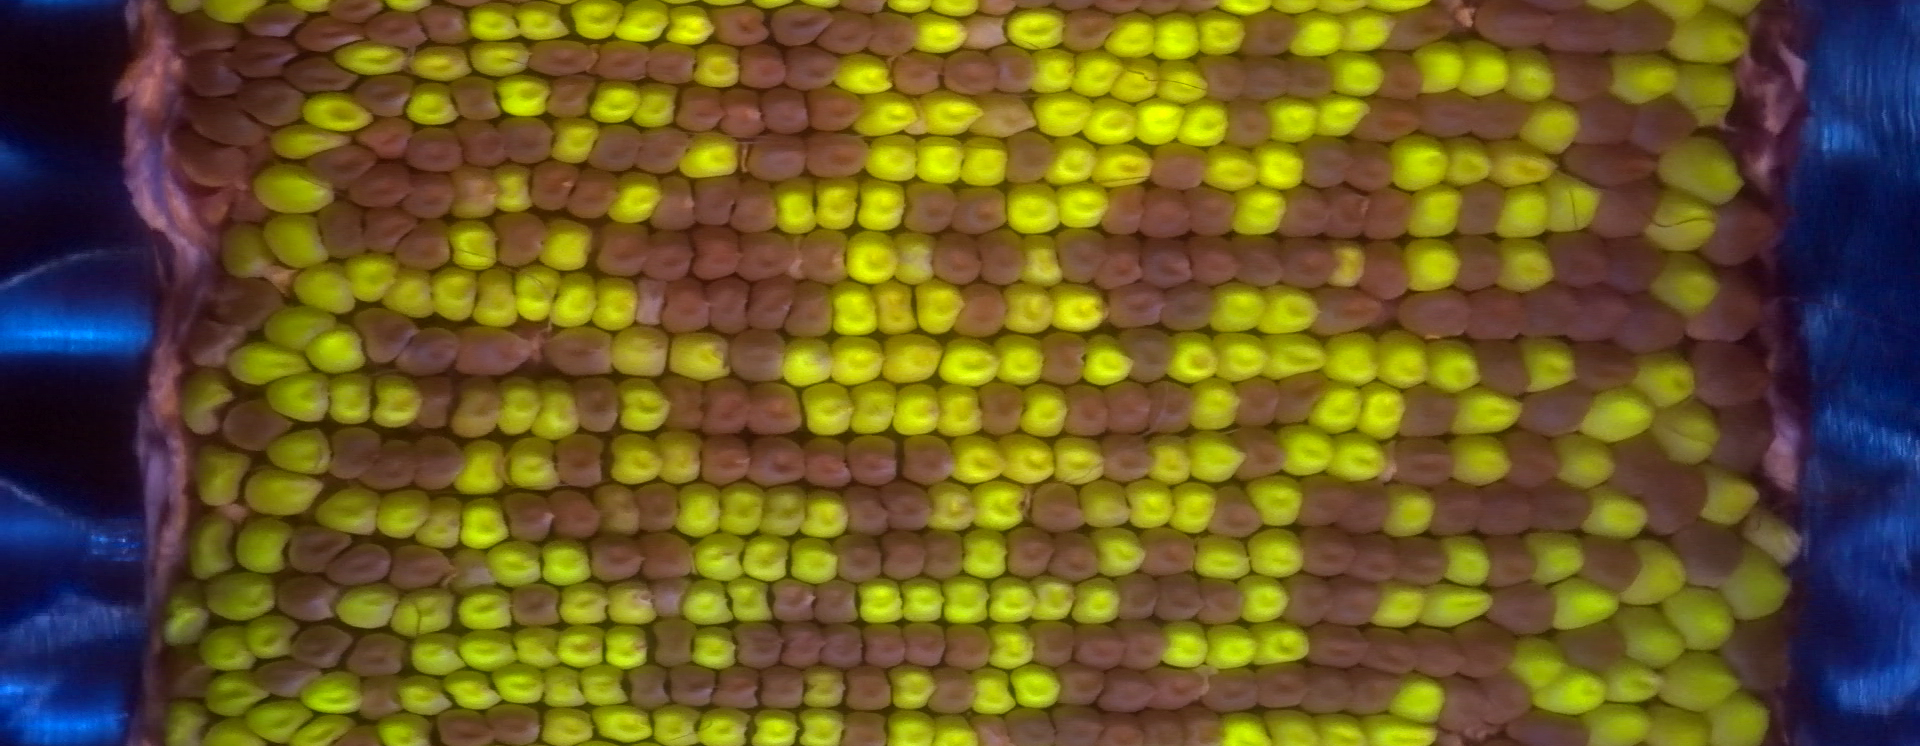fluorescent: (1653, 131, 1753, 217), (1716, 537, 1801, 628), (1654, 646, 1749, 719), (1658, 581, 1745, 657), (1616, 530, 1693, 612), (1642, 186, 1727, 260), (1667, 1, 1757, 69), (245, 160, 348, 219), (1624, 343, 1706, 416), (1573, 383, 1664, 450), (1644, 246, 1724, 321), (1611, 603, 1692, 675), (238, 463, 331, 526), (1653, 393, 1727, 472), (1547, 428, 1625, 499), (223, 337, 320, 393), (176, 365, 242, 447), (1575, 481, 1657, 548), (1603, 47, 1686, 111), (1669, 58, 1745, 129), (1382, 127, 1460, 197), (284, 256, 364, 323), (1480, 132, 1566, 195), (1537, 165, 1611, 236), (261, 367, 343, 430), (189, 440, 257, 514), (148, 576, 216, 652), (1517, 526, 1596, 590), (180, 508, 244, 588), (1318, 323, 1389, 394), (1445, 383, 1531, 442), (256, 209, 338, 271), (1413, 578, 1504, 633), (1512, 328, 1582, 399), (228, 512, 300, 581), (309, 483, 389, 544), (1418, 333, 1491, 401), (200, 567, 285, 625), (524, 372, 589, 448), (1442, 429, 1521, 491), (1545, 572, 1624, 635), (1739, 501, 1810, 570), (1513, 93, 1586, 160), (1180, 424, 1254, 490), (1502, 628, 1576, 695), (991, 428, 1067, 491), (1042, 279, 1120, 341), (1531, 660, 1609, 722), (1368, 326, 1436, 396), (1695, 461, 1764, 529), (872, 330, 953, 388), (1396, 233, 1472, 295), (1250, 281, 1329, 341), (257, 425, 340, 481), (1381, 668, 1453, 733), (1269, 416, 1342, 480), (1205, 327, 1280, 390), (602, 321, 678, 382), (195, 668, 277, 724), (1703, 690, 1785, 746), (1449, 36, 1517, 103), (1374, 477, 1442, 544), (822, 274, 888, 344), (609, 374, 680, 439), (500, 434, 571, 499), (463, 262, 528, 333), (999, 178, 1071, 241), (932, 333, 1011, 391), (1239, 522, 1314, 583), (386, 583, 462, 643), (446, 435, 514, 501), (213, 220, 283, 285), (1400, 179, 1469, 244), (673, 122, 744, 186), (1489, 183, 1560, 246), (329, 578, 408, 636), (911, 85, 989, 142), (1255, 328, 1335, 385), (377, 262, 444, 328), (1240, 468, 1308, 534), (295, 87, 380, 140), (840, 225, 910, 289), (191, 622, 268, 680), (256, 304, 347, 353), (1404, 36, 1476, 98), (666, 478, 731, 545), (1435, 529, 1500, 597), (1198, 141, 1273, 198), (1223, 183, 1299, 240), (489, 372, 551, 442), (996, 278, 1065, 341), (1491, 233, 1562, 294), (662, 330, 740, 386), (337, 247, 409, 307), (1365, 576, 1438, 636), (302, 321, 376, 380), (942, 431, 1015, 490), (479, 535, 553, 593), (710, 478, 775, 544), (1011, 379, 1076, 445), (928, 379, 994, 443), (1076, 330, 1145, 392), (767, 170, 828, 240), (328, 36, 418, 83), (453, 624, 531, 677), (605, 429, 670, 494), (454, 492, 518, 559), (507, 260, 571, 326), (841, 375, 907, 439), (1158, 477, 1224, 540), (1243, 619, 1322, 671), (866, 274, 926, 344), (528, 216, 598, 276), (948, 131, 1018, 191), (1085, 138, 1161, 194), (1596, 655, 1673, 709), (751, 480, 816, 544), (1435, 129, 1500, 192), (422, 261, 485, 327), (1160, 327, 1226, 390), (998, 2, 1076, 55), (1118, 474, 1185, 535), (1281, 9, 1356, 64), (984, 330, 1053, 390), (1079, 89, 1147, 149), (1351, 379, 1411, 447), (1324, 428, 1392, 488), (264, 120, 358, 164), (239, 695, 318, 746), (1082, 522, 1153, 579), (852, 85, 924, 141), (372, 483, 436, 546), (320, 369, 383, 432), (851, 173, 913, 238), (932, 570, 997, 632), (1184, 372, 1247, 437), (365, 371, 431, 432), (966, 475, 1032, 537), (1249, 136, 1315, 197), (673, 575, 741, 635), (546, 266, 605, 334), (1000, 659, 1069, 718), (1205, 277, 1273, 336), (400, 625, 475, 679), (1187, 532, 1261, 586), (451, 581, 520, 638), (462, 32, 541, 82), (793, 483, 857, 545), (909, 277, 972, 339), (647, 426, 711, 488), (687, 529, 752, 590), (798, 379, 860, 443), (1498, 45, 1562, 107), (1014, 229, 1075, 294), (782, 530, 849, 590), (918, 477, 984, 537), (1231, 571, 1297, 631), (825, 332, 894, 390), (1044, 434, 1113, 491), (1051, 178, 1119, 235), (293, 668, 371, 718), (883, 227, 944, 290), (1303, 379, 1367, 440), (1128, 91, 1193, 151), (774, 333, 840, 392), (860, 129, 926, 187), (1580, 701, 1665, 746), (1071, 477, 1139, 534), (1637, 702, 1724, 746), (1029, 88, 1100, 142), (584, 274, 647, 336), (443, 160, 506, 222), (535, 534, 600, 593), (686, 37, 751, 96), (542, 113, 609, 170), (1200, 620, 1266, 677), (600, 576, 667, 632), (583, 73, 650, 130), (1260, 93, 1327, 149), (1138, 431, 1199, 492), (605, 168, 669, 227), (396, 77, 467, 130), (828, 48, 899, 100), (882, 659, 947, 717), (1153, 617, 1218, 675), (1098, 7, 1164, 64), (1173, 96, 1239, 152), (909, 132, 975, 189), (550, 577, 617, 632), (1322, 47, 1390, 102), (400, 40, 480, 87), (1335, 4, 1403, 58), (885, 380, 947, 440), (487, 658, 552, 714), (1022, 572, 1087, 628), (1063, 572, 1128, 628), (1150, 56, 1218, 109), (956, 526, 1016, 586), (964, 663, 1025, 722), (904, 7, 973, 59), (850, 573, 913, 630), (981, 572, 1044, 628), (735, 530, 800, 586), (415, 489, 469, 555), (624, 77, 686, 135), (551, 619, 613, 675), (492, 69, 557, 122), (1065, 48, 1130, 102), (436, 666, 507, 715), (585, 699, 660, 746), (444, 216, 504, 273), (1320, 234, 1378, 294), (1109, 48, 1166, 109), (682, 622, 744, 677), (1147, 9, 1210, 64), (1189, 6, 1251, 61), (795, 660, 858, 714), (981, 619, 1044, 673), (811, 171, 863, 236), (1040, 134, 1104, 186), (573, 659, 639, 710), (240, 610, 306, 661), (485, 160, 544, 217), (722, 573, 782, 628), (533, 661, 594, 715), (1310, 92, 1378, 141), (389, 671, 458, 719), (1022, 47, 1084, 99), (606, 1, 675, 48), (1354, 710, 1444, 746), (599, 620, 656, 675), (894, 573, 951, 628), (507, 622, 571, 671), (564, 1, 633, 47), (509, 1, 582, 44), (156, 695, 216, 746), (661, 1, 721, 51), (692, 701, 758, 746), (643, 699, 707, 746), (462, 1, 524, 47), (534, 704, 601, 746), (1261, 704, 1329, 746), (285, 708, 359, 746), (369, 707, 440, 746), (1307, 707, 1378, 746), (196, 713, 276, 746), (879, 706, 944, 746), (743, 704, 806, 746), (1213, 707, 1276, 746), (920, 710, 986, 746), (793, 704, 850, 746)
nonfluorescent: (1680, 256, 1769, 352), (1680, 337, 1778, 416), (1716, 608, 1798, 702), (1704, 394, 1787, 480), (1697, 195, 1787, 272), (1668, 516, 1752, 595), (1622, 93, 1716, 163), (1558, 137, 1671, 194), (167, 126, 255, 197), (444, 321, 542, 385), (1644, 456, 1716, 541), (1537, 225, 1621, 296), (1581, 176, 1669, 243), (1600, 426, 1676, 502), (350, 303, 433, 370), (214, 394, 300, 459), (1484, 576, 1564, 644), (1560, 279, 1641, 347), (1613, 292, 1693, 359), (1392, 287, 1483, 347), (1594, 232, 1678, 296), (538, 321, 623, 383), (1537, 4, 1627, 62), (1469, 1, 1564, 58), (1542, 47, 1625, 110), (1573, 529, 1651, 598), (185, 96, 277, 153), (1304, 283, 1391, 343), (1518, 379, 1602, 441), (1565, 91, 1644, 156), (298, 140, 389, 195), (893, 176, 969, 243), (798, 124, 878, 186), (1413, 85, 1493, 147), (1464, 333, 1538, 401), (389, 320, 467, 383), (1449, 619, 1526, 682), (1378, 1, 1464, 58), (340, 157, 424, 216), (1527, 473, 1600, 539), (1553, 616, 1633, 676), (1569, 334, 1643, 399), (382, 540, 464, 599), (740, 126, 817, 189), (211, 273, 289, 334), (1499, 428, 1570, 495), (722, 323, 795, 390), (564, 370, 629, 443), (149, 641, 223, 706), (1401, 620, 1476, 684), (269, 570, 348, 630), (587, 216, 658, 282), (405, 430, 476, 496), (1292, 468, 1363, 534), (778, 273, 842, 345), (740, 429, 812, 494), (1419, 477, 1491, 541), (740, 379, 813, 442), (280, 521, 361, 578), (1116, 321, 1183, 390), (386, 209, 457, 274), (1318, 571, 1389, 636), (732, 225, 804, 289), (1461, 282, 1533, 345), (228, 75, 311, 130), (629, 526, 705, 586), (486, 207, 553, 274), (654, 274, 722, 341), (1153, 274, 1222, 341), (580, 118, 651, 181), (1389, 432, 1462, 494), (1271, 233, 1344, 294), (1397, 382, 1464, 448), (1051, 223, 1116, 292), (653, 369, 716, 439), (353, 434, 422, 497), (558, 163, 629, 225), (276, 51, 364, 102), (945, 281, 1018, 342), (1469, 87, 1542, 148), (283, 619, 361, 675), (182, 317, 256, 377), (583, 530, 656, 590), (682, 220, 748, 287), (792, 224, 858, 290), (924, 225, 991, 292), (1449, 175, 1515, 241), (727, 612, 795, 677), (1272, 364, 1337, 431), (1445, 233, 1513, 296), (700, 272, 763, 342), (1129, 183, 1199, 245), (1269, 181, 1340, 243), (801, 80, 873, 140), (1349, 94, 1431, 147), (550, 429, 616, 494), (693, 428, 759, 492), (1335, 477, 1401, 541), (840, 428, 907, 491), (898, 429, 965, 492), (338, 628, 418, 682), (1202, 481, 1270, 545), (322, 423, 391, 485), (833, 479, 901, 541), (1471, 668, 1540, 729), (1474, 530, 1545, 590), (247, 654, 328, 707), (170, 7, 247, 62), (176, 44, 250, 102), (1385, 533, 1458, 590), (700, 1, 779, 55), (637, 225, 703, 289), (1431, 674, 1498, 737), (1182, 229, 1248, 293), (1474, 478, 1540, 541), (696, 375, 758, 442), (969, 224, 1031, 292), (1058, 380, 1120, 447), (793, 434, 862, 495), (1292, 521, 1360, 582), (1025, 477, 1093, 538), (943, 179, 1011, 240), (1518, 281, 1587, 342), (743, 271, 806, 337), (871, 526, 937, 588), (1354, 236, 1417, 303), (1293, 130, 1359, 192), (318, 540, 400, 590), (399, 122, 474, 178), (1292, 661, 1360, 722), (1131, 234, 1201, 293), (1095, 430, 1164, 489), (520, 36, 604, 85), (1338, 664, 1411, 720), (764, 1, 845, 51), (1087, 232, 1150, 296), (1228, 424, 1293, 486), (391, 168, 464, 223), (877, 475, 943, 537), (1109, 612, 1176, 674), (1033, 328, 1095, 394), (313, 197, 373, 265), (1502, 703, 1597, 746), (1249, 657, 1316, 717), (1178, 183, 1245, 243), (1146, 135, 1215, 194), (725, 169, 782, 239), (1300, 620, 1376, 673), (225, 33, 305, 83), (775, 40, 847, 96), (1140, 661, 1212, 717), (1131, 524, 1204, 579), (828, 527, 891, 589), (686, 170, 747, 235), (1041, 527, 1106, 588), (1224, 232, 1291, 292), (1356, 624, 1423, 682), (667, 82, 736, 140), (1103, 278, 1172, 336), (348, 70, 422, 122), (998, 127, 1060, 190), (999, 524, 1060, 588), (1141, 376, 1202, 440), (1369, 45, 1433, 107), (1272, 572, 1340, 630), (354, 202, 424, 257), (629, 122, 700, 176), (754, 82, 818, 142), (1098, 376, 1157, 441), (498, 488, 564, 545), (503, 578, 571, 635), (760, 573, 828, 630), (285, 13, 371, 58), (447, 114, 516, 169), (647, 167, 700, 236), (1343, 530, 1407, 589), (1220, 96, 1283, 154), (1044, 658, 1116, 710), (920, 663, 984, 720), (936, 48, 1008, 99), (812, 5, 879, 60), (884, 45, 951, 100), (1188, 573, 1255, 628), (1196, 665, 1266, 718), (1359, 183, 1420, 243), (973, 376, 1031, 440), (980, 39, 1044, 96), (1236, 7, 1307, 59), (1065, 619, 1131, 674), (713, 85, 773, 145), (1341, 136, 1401, 196), (546, 488, 609, 545), (938, 620, 1000, 677), (407, 370, 458, 440), (731, 39, 796, 94), (1147, 570, 1212, 625), (493, 113, 560, 167), (589, 479, 648, 539), (896, 617, 956, 676), (1318, 184, 1378, 243), (627, 477, 688, 534), (523, 159, 585, 216), (838, 661, 900, 718), (1021, 615, 1084, 671), (1093, 661, 1157, 717), (640, 36, 705, 89), (589, 38, 660, 87), (351, 114, 422, 163), (1191, 49, 1251, 107), (1229, 374, 1286, 435), (920, 524, 973, 588), (444, 73, 509, 126), (359, 7, 433, 53), (773, 615, 831, 673), (864, 6, 924, 62), (648, 612, 704, 673), (856, 617, 916, 674), (816, 619, 877, 674), (1236, 51, 1299, 104), (1109, 570, 1166, 628), (540, 70, 602, 122), (413, 1, 478, 51), (479, 699, 549, 746), (1056, 7, 1125, 54), (351, 671, 410, 726), (1100, 183, 1153, 243), (239, 1, 313, 44), (752, 660, 811, 714), (707, 663, 767, 715), (1280, 51, 1340, 104), (997, 699, 1064, 746), (1042, 701, 1111, 746), (429, 702, 498, 746), (661, 660, 722, 710), (809, 575, 864, 628), (954, 10, 1018, 55), (643, 573, 698, 624), (629, 274, 673, 334), (623, 660, 673, 712), (1089, 707, 1152, 746), (1174, 702, 1229, 746), (833, 706, 893, 746), (1133, 706, 1191, 746), (320, 1, 392, 28), (969, 708, 1018, 746)
